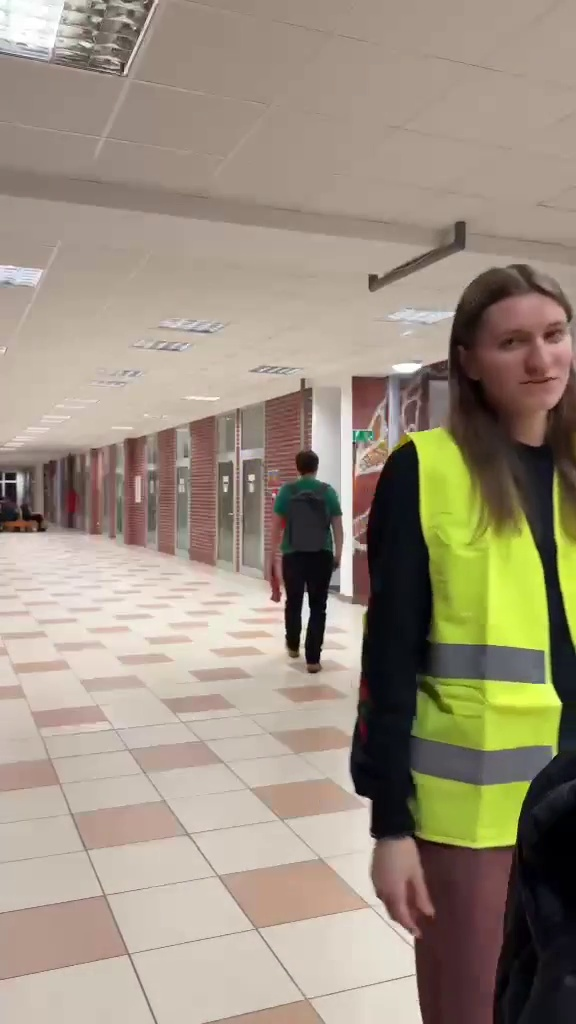no vest: (262, 433, 349, 667)
vest: (370, 262, 573, 989)
